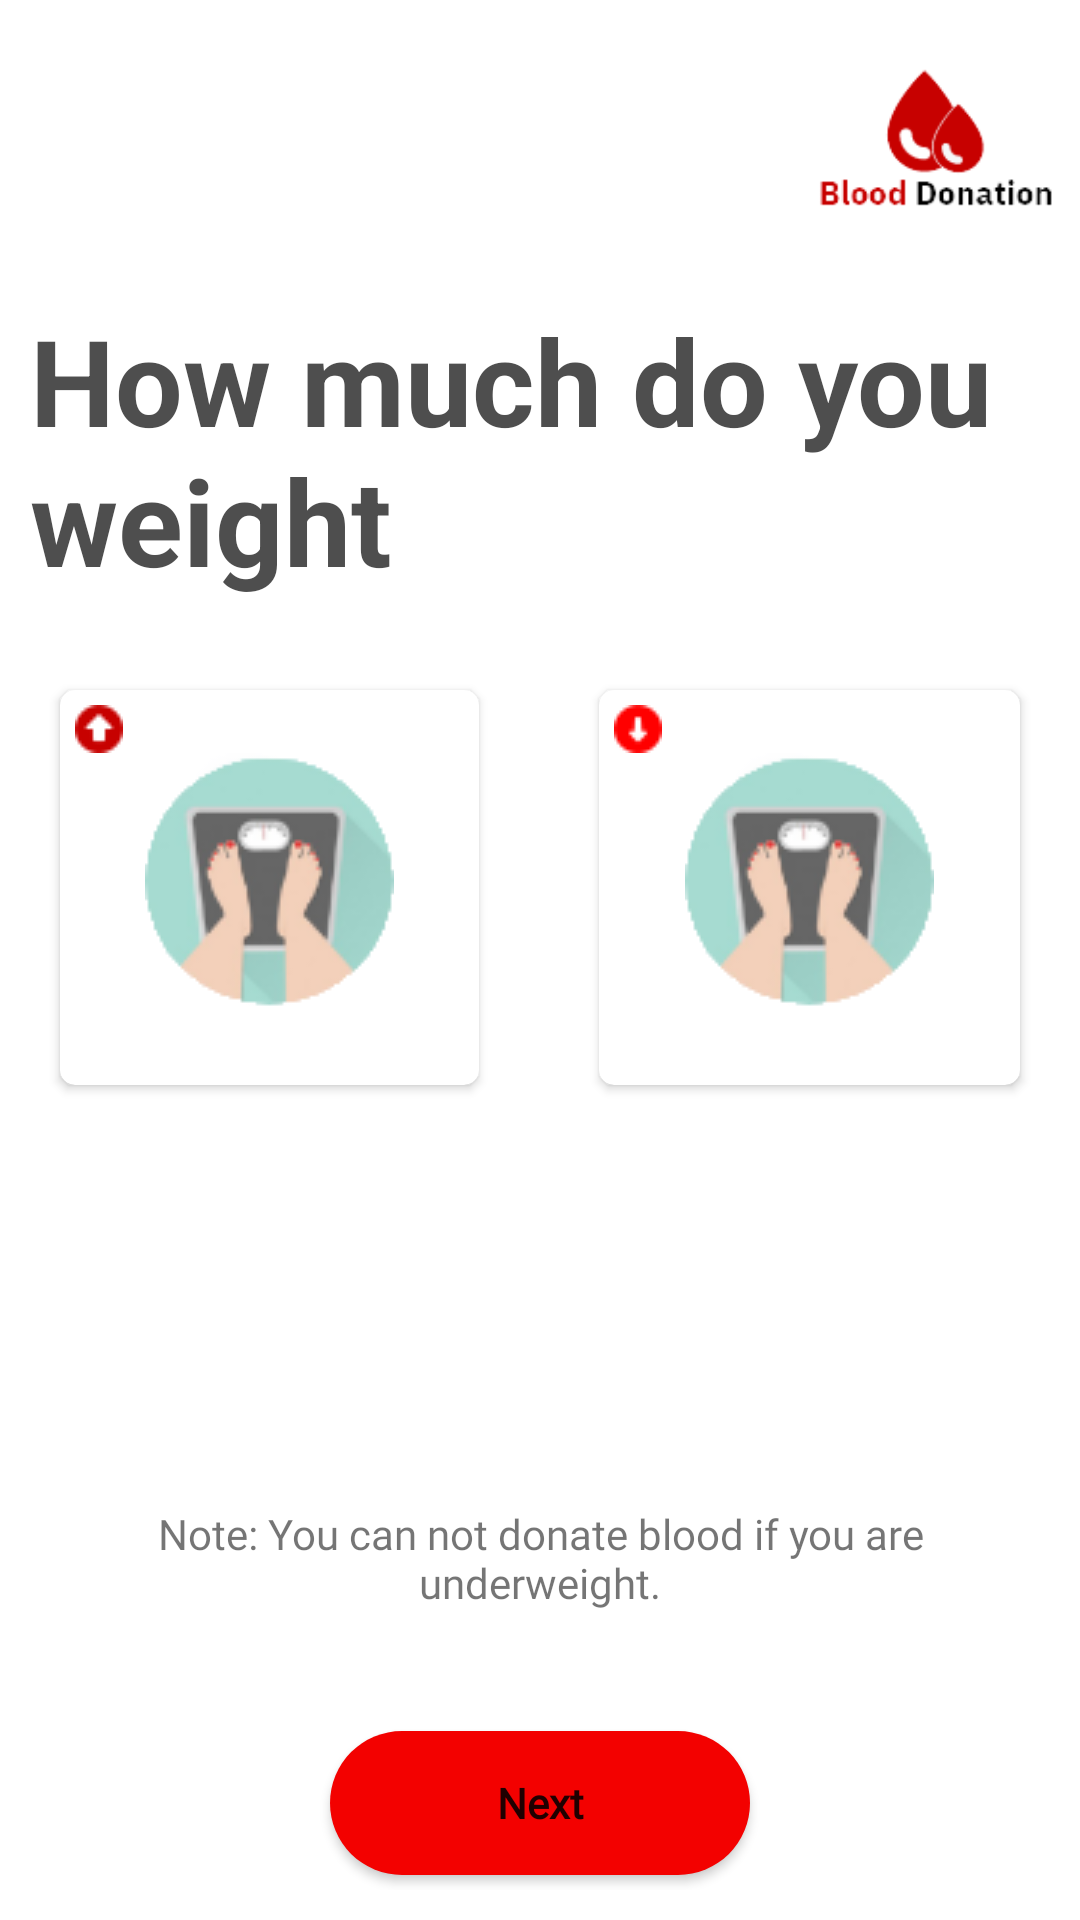

Icon click points for this 1080px x 1920px phone screenshot, format [x,y]:
down: [638,729]
weight: [269,882], [809,882]
